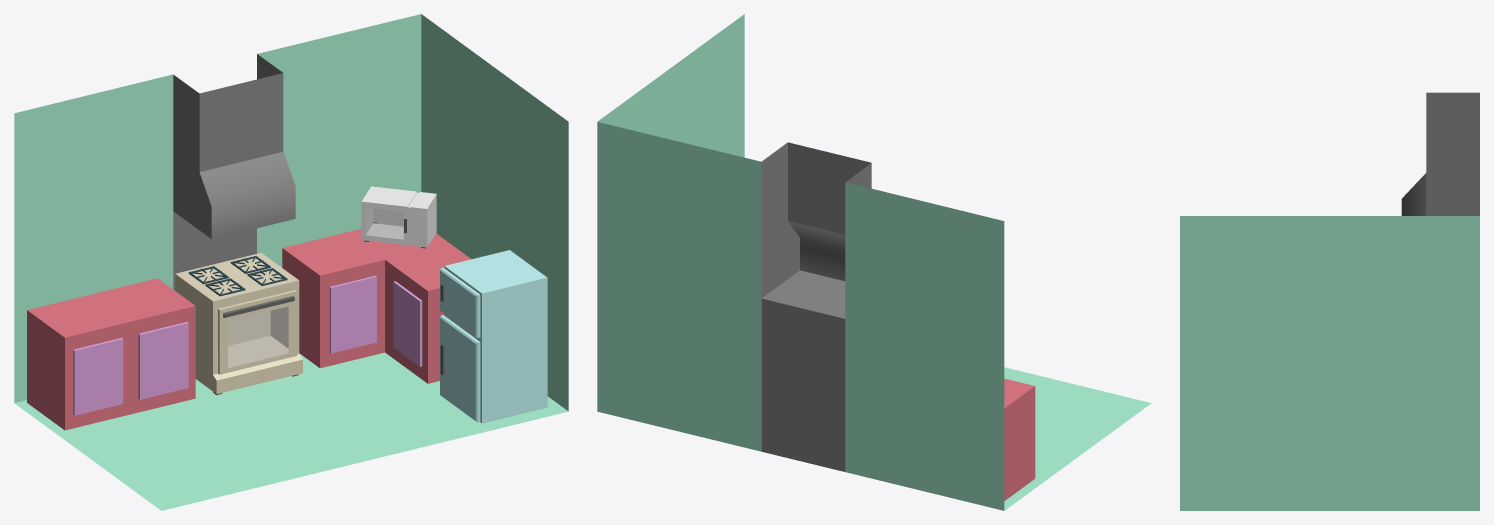
Rendered from Kitchen setup.fbx.
The picture shows the model from 3 angles, left to right: view 1: azimuth 30°, elevation 25°; view 2: azimuth 150°, elevation 25°; view 3: azimuth 270°, elevation 25°; orthographic projection.
Visible parts, largest first — view 1: pPlane10, Draw_2, Draw_1, pCube145, pCube125, pCube126, polySurface1, polySurface2; view 2: pPlane10, Draw_2; view 3: pPlane10.
Boxes of the visible parts, box(x1,y1,x2,y2) form: pPlane10: box(14, 14, 568, 510); Draw_2: box(27, 278, 195, 430); Draw_1: box(282, 228, 470, 383); pCube145: box(440, 250, 547, 423); pCube125: box(175, 252, 302, 393); pCube126: box(218, 290, 297, 374); polySurface1: box(361, 186, 436, 247); polySurface2: box(365, 207, 403, 239); pPlane10: box(597, 14, 1151, 510); Draw_2: box(1004, 378, 1035, 500); pPlane10: box(1180, 92, 1479, 510).
Size of the model in its own units: 6.23 by 4.24 by 3.9.
Materials: 2 (1 with a texture image).
